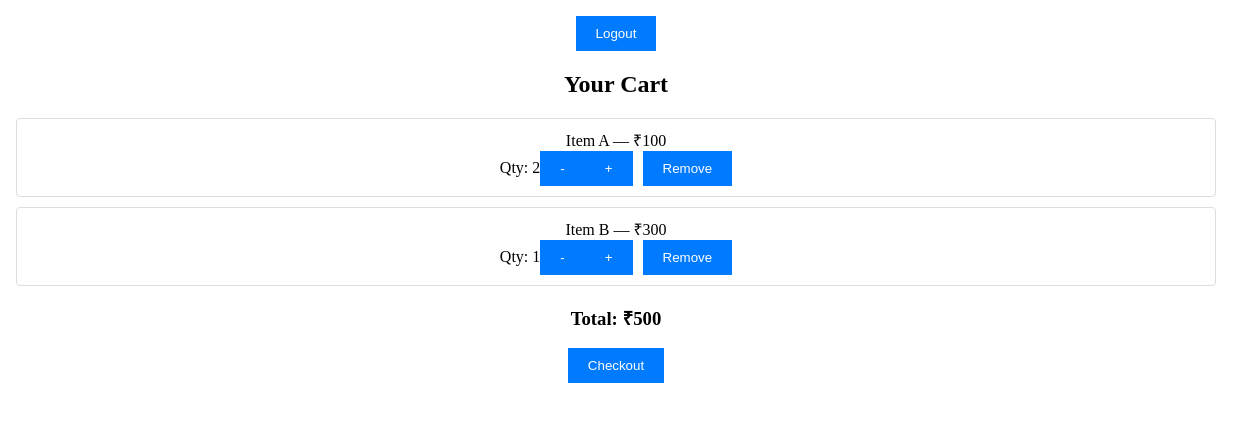
Test: Cart Component › handles checkout failure
Click the button "Checkout" at (616, 366), box [568,348,664,383]
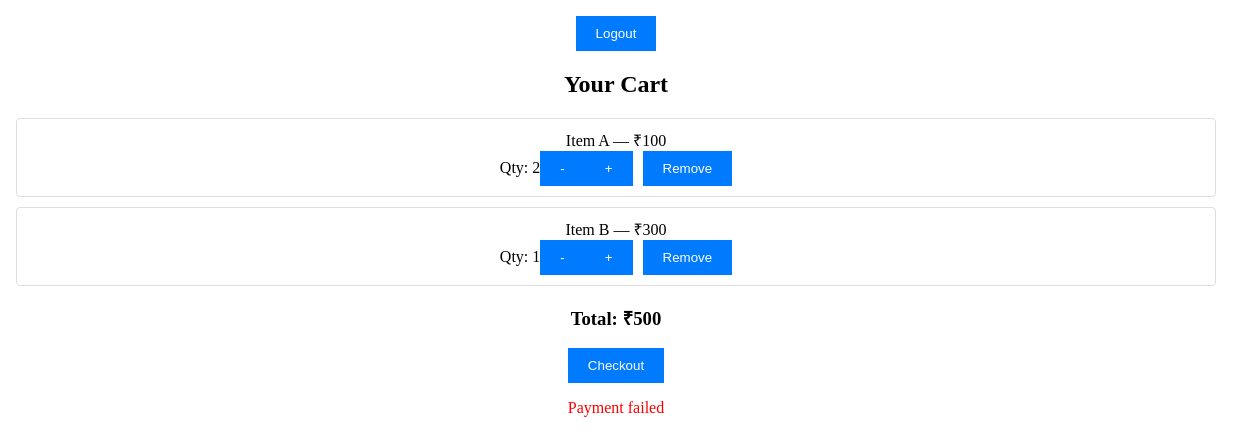
Now the text "Payment failed" is shown, box [568,399,664,416]
